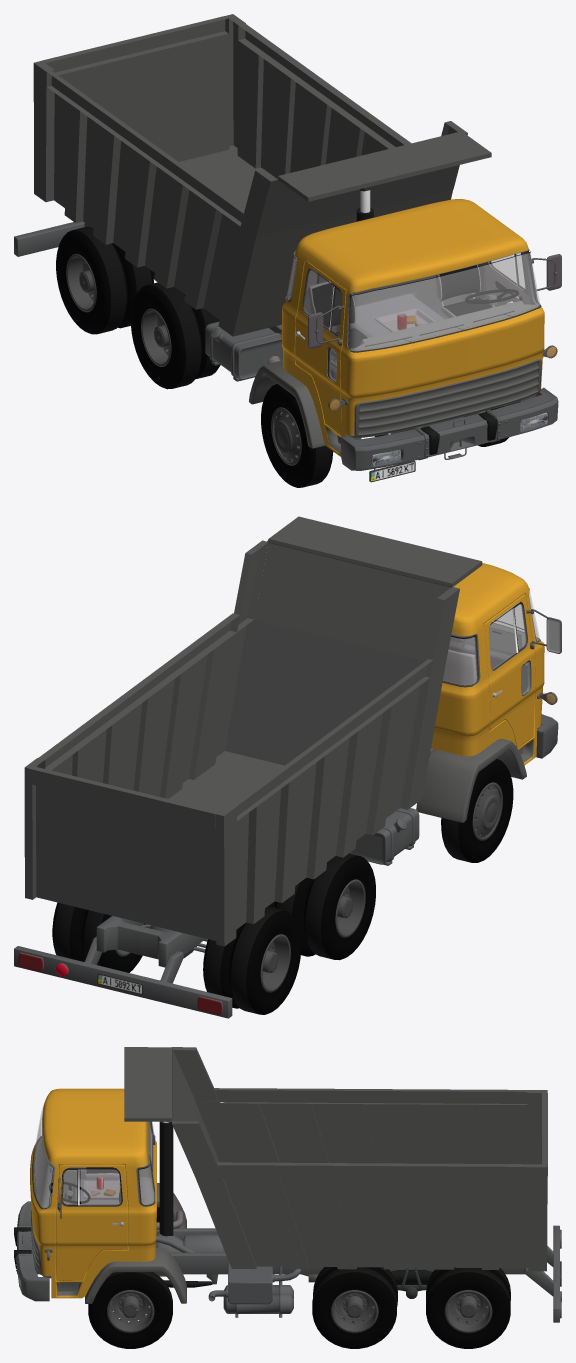
The model's file is truck1.glb.
3 views of the same model, one above another, from view 1: azimuth 30°, elevation 25°; view 2: azimuth 150°, elevation 25°; view 3: azimuth 270°, elevation 25° (orthographic). The views are drawn at different scales.
Parts seen in each view (by area): view 1: Cube.001, cab.001, windows.001, base_frame.001, cab_interior.001, left_rear_wheel_1.004, left_rear_wheel_1.003, right_front_wheel.001, right_drivers_window.001, right_rear_wheel_2.001, right_middle_wheel_2.001, baking_tray.001; view 2: Cube.001, cab.001, base_frame.001, left_rear_wheel_1.003, left_rear_wheel_1.004, right_front_wheel.001, cab_interior.001, windows.001, left_rear_wheel_1.001, right_rear_wheel_2.001, left_rear_wheel_2.001, right_drivers_window.001 (+1 smaller); view 3: Cube.001, cab.001, base_frame.001, left_rear_wheel_1.001, left_rear_wheel_1.005, left_rear_wheel_1.002, cab_interior.001, windows.001, Cylinder.001, left_drivers_windows.001, baking_tray.001, left_middle_wheel_2.001 (+1 smaller).
Part boxes in pixels (<box>): Cube.001: <box>33,14,491,336</box>; cab.001: <box>249,199,557,456</box>; windows.001: <box>286,251,541,381</box>; base_frame.001: <box>14,221,558,470</box>; cab_interior.001: <box>285,249,539,382</box>; left_rear_wheel_1.004: <box>131,282,202,389</box>; left_rear_wheel_1.003: <box>56,226,128,334</box>; right_front_wheel.001: <box>261,383,333,487</box>; right_drivers_window.001: <box>303,269,332,328</box>; right_rear_wheel_2.001: <box>113,243,153,328</box>; right_middle_wheel_2.001: <box>194,308,220,379</box>; baking_tray.001: <box>375,308,435,332</box>; Cube.001: <box>24,516,482,946</box>; cab.001: <box>416,563,557,822</box>; base_frame.001: <box>14,714,558,1018</box>; left_rear_wheel_1.003: <box>229,907,301,1014</box>; left_rear_wheel_1.004: <box>304,853,375,960</box>; right_front_wheel.001: <box>441,759,513,862</box>; cab_interior.001: <box>443,588,539,696</box>; windows.001: <box>442,590,540,695</box>; left_rear_wheel_1.001: <box>52,902,86,961</box>; right_rear_wheel_2.001: <box>203,924,243,1008</box>; left_rear_wheel_2.001: <box>82,909,149,972</box>; right_drivers_window.001: <box>489,609,516,669</box>; Cube.001: <box>124,1047,547,1271</box>; cab.001: <box>30,1088,186,1303</box>; base_frame.001: <box>14,1201,561,1322</box>; left_rear_wheel_1.001: <box>426,1268,510,1348</box>; left_rear_wheel_1.005: <box>312,1267,396,1348</box>; left_rear_wheel_1.002: <box>88,1272,172,1348</box>; cab_interior.001: <box>34,1106,155,1208</box>; windows.001: <box>32,1102,155,1209</box>; Cylinder.001: <box>159,1121,173,1236</box>; left_drivers_windows.001: <box>81,1169,121,1204</box>; baking_tray.001: <box>83,1180,120,1199</box>; left_middle_wheel_2.001: <box>313,1267,397,1322</box>.
Size of the model in its own units: 5.67 by 6.21 by 13.38.
Materials: 99 (49 with a texture image).
